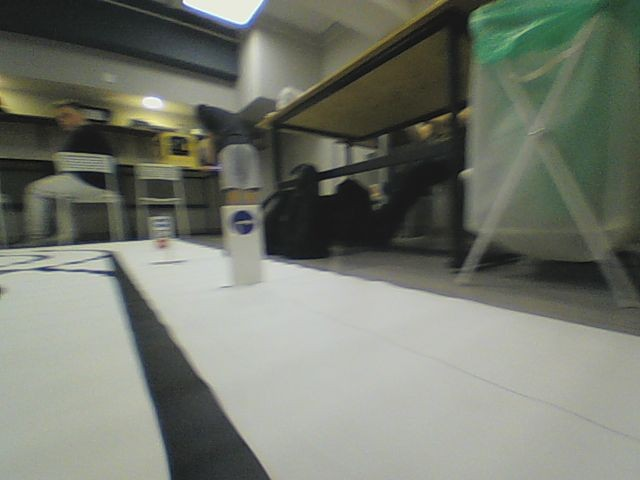Right: (228, 208, 259, 237)
